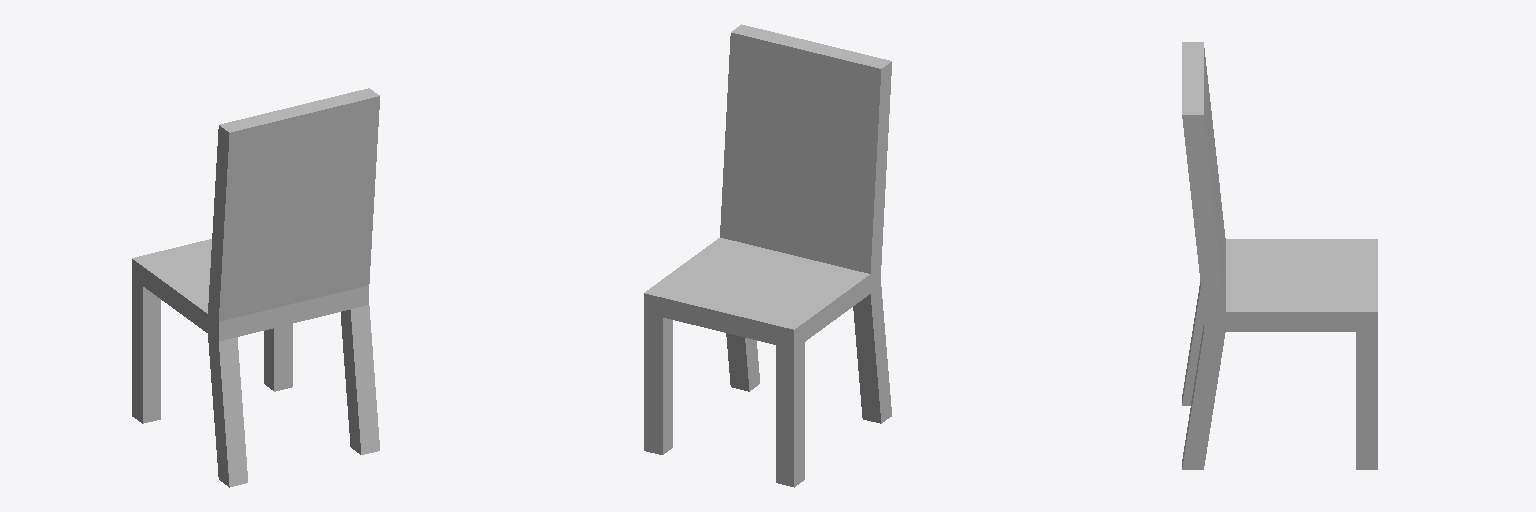
Rendered from chair.obj.
3 renders of one model, left to right at view 1: azimuth 30°, elevation 25°; view 2: azimuth 150°, elevation 25°; view 3: azimuth 270°, elevation 25°, orthographic.
Visible parts, largest first — view 1: Cube; view 2: Cube; view 3: Cube.
Part boxes in pixels (x1,y1,x2,y2): Cube: (132,88,379,487); Cube: (644,24,891,487); Cube: (1182,42,1377,469).
Bounding box in the file's own units: 0.8 × 1.8 × 0.9.